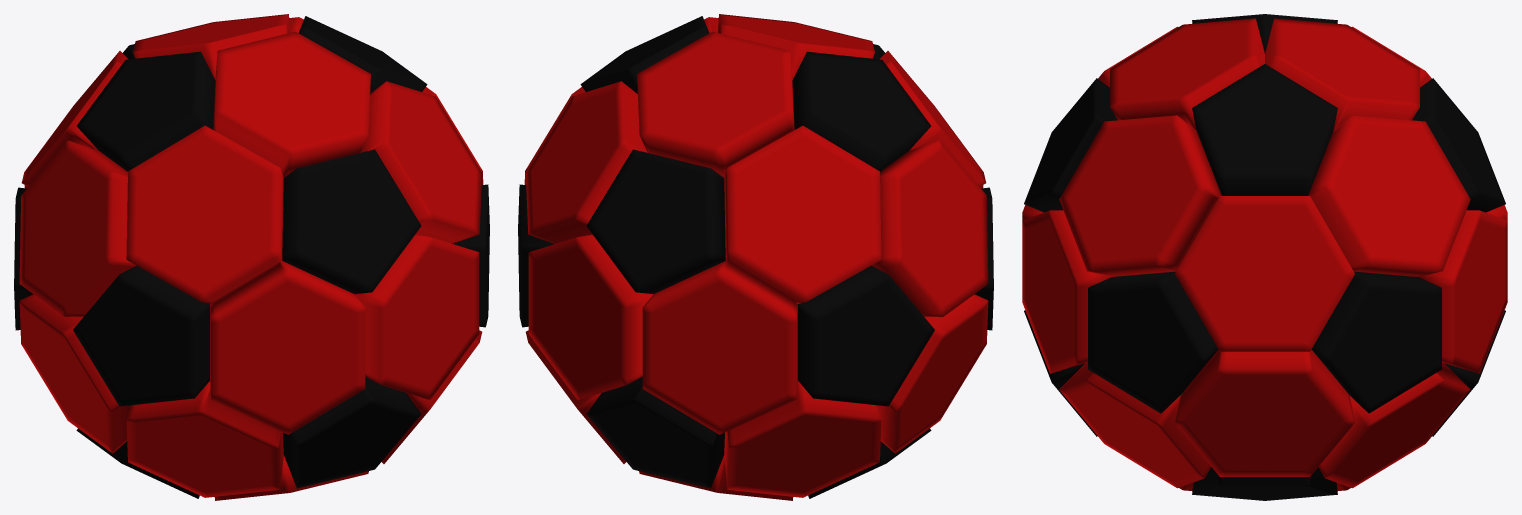
File: ballR.dae
3 views of the same model, side by side, from view 1: azimuth 30°, elevation 25°; view 2: azimuth 150°, elevation 25°; view 3: azimuth 270°, elevation 25° (orthographic).
Visible parts, largest first — view 1: ball; view 2: ball; view 3: ball.
Boxes of the visible parts, <box> form: ball: <box>14,14,489,500</box>; ball: <box>518,14,993,500</box>; ball: <box>1022,14,1507,500</box>.
Bounding box in the file's own units: 2.01 × 2.01 × 2.01.
